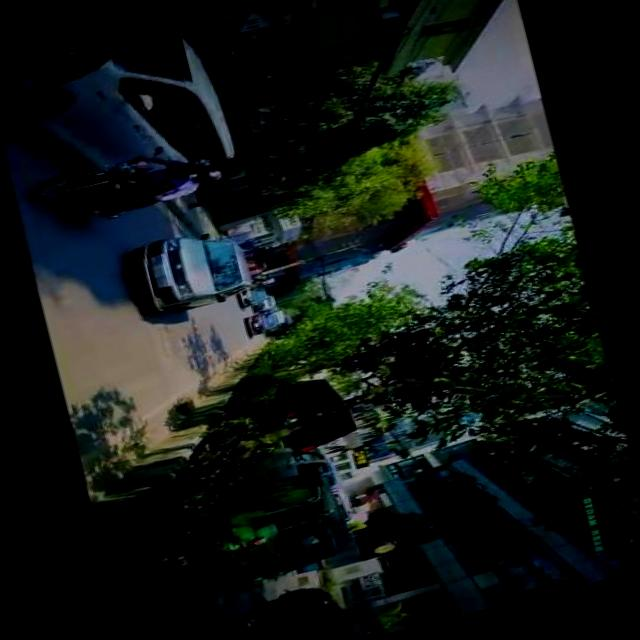car: (132, 222, 258, 321), (250, 309, 284, 336), (242, 286, 272, 310)
motorcycle: (194, 467, 356, 597), (34, 154, 170, 235)
truck: (3, 25, 242, 209), (248, 434, 356, 535), (258, 370, 361, 459)
